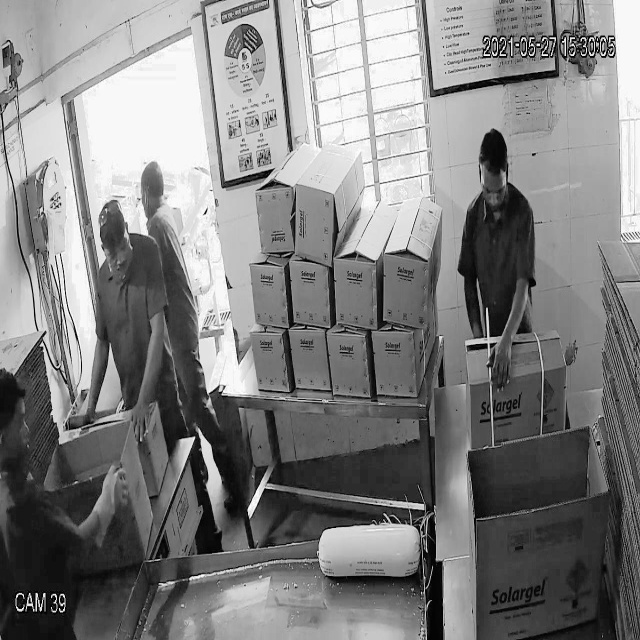Sin_gafas: (473, 176, 513, 203), (98, 236, 134, 266)
